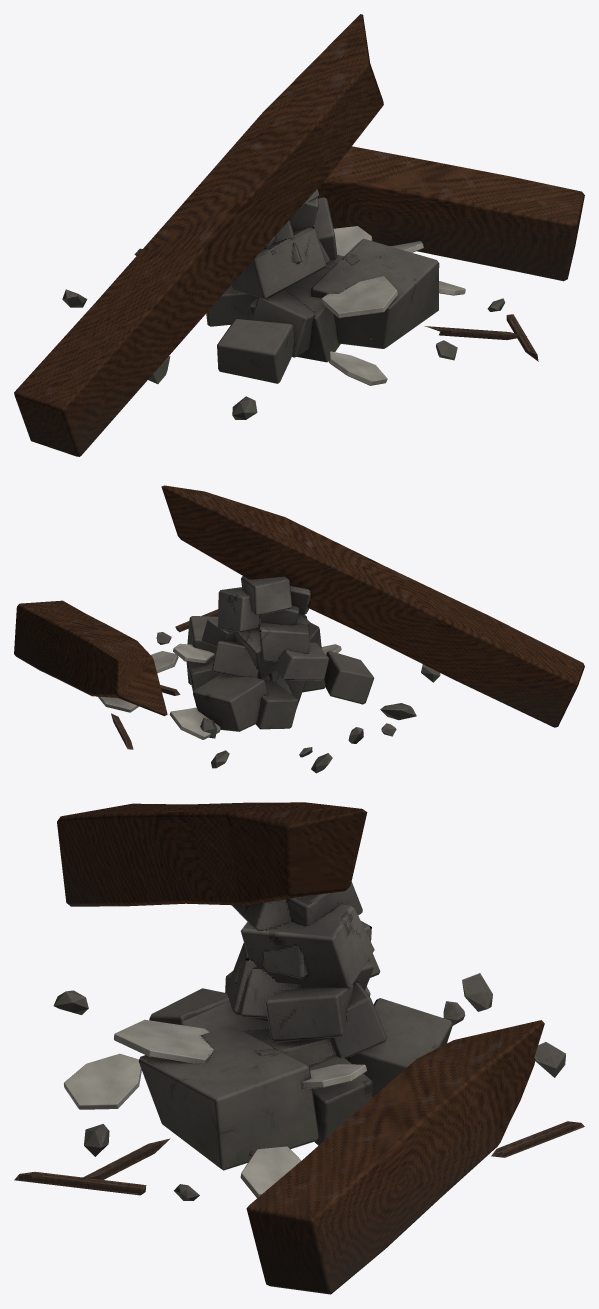
File: rubble.glb
3 views of the same model, one above another, from view 1: azimuth 30°, elevation 25°; view 2: azimuth 150°, elevation 25°; view 3: azimuth 270°, elevation 25° (orthographic). The views are drawn at different scales.
Parts seen in each view (by area): view 1: RubbleCollapse; view 2: RubbleCollapse; view 3: RubbleCollapse.
Part boxes in pixels (box(x1,y1,x2,y2)): RubbleCollapse: box(14, 14, 584, 456); RubbleCollapse: box(14, 485, 584, 773); RubbleCollapse: box(14, 802, 584, 1294).
Size of the model in its own units: 3.13 by 1.32 by 1.85.
1 material, 1 textured.
